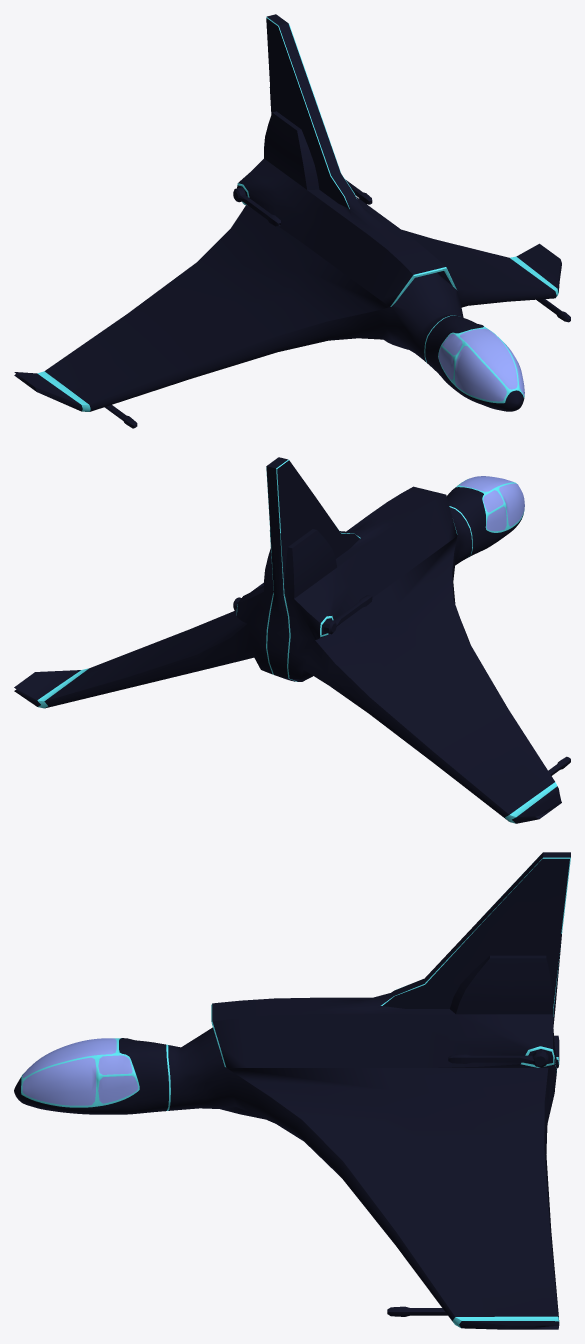
The model's file is anubis.FBX.
3 views of the same model, one above another, from view 1: azimuth 30°, elevation 25°; view 2: azimuth 150°, elevation 25°; view 3: azimuth 270°, elevation 25° (orthographic). The views are drawn at different scales.
Visible parts, largest first — view 1: anubisbody; view 2: anubisbody; view 3: anubisbody.
Part boxes in pixels (x1,y1,x2,y2): anubisbody: (14,14,570,428); anubisbody: (14,457,570,823); anubisbody: (14,852,570,1329).
Size of the model in its own units: 1.06 by 0.5831 by 0.8573.
